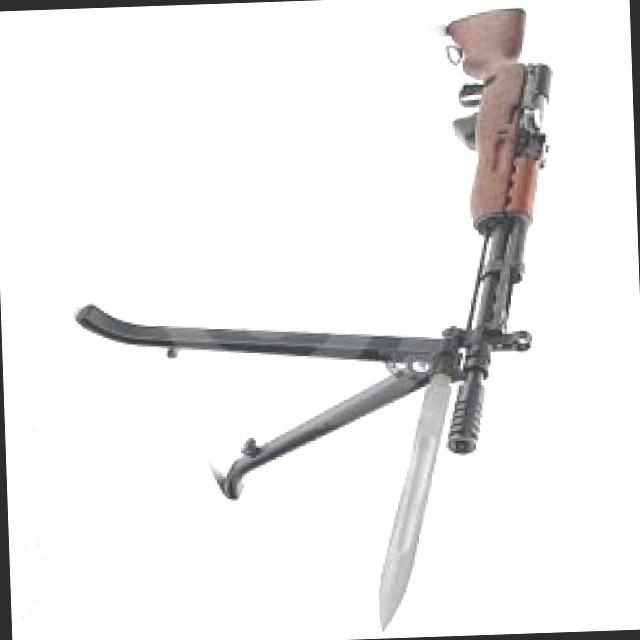long weapon: (94, 0, 584, 573)
